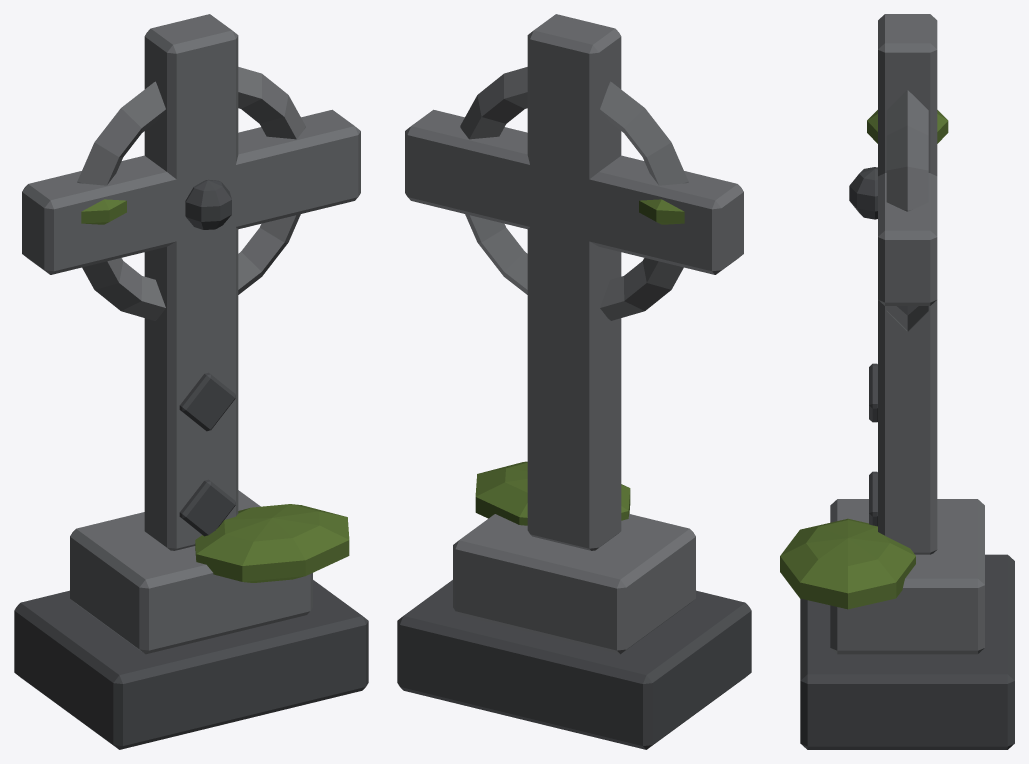
The model's file is celtic_cross.glb.
3 views of the same model, side by side, from view 1: azimuth 30°, elevation 25°; view 2: azimuth 150°, elevation 25°; view 3: azimuth 270°, elevation 25° (orthographic).
Visible parts, largest first — view 1: CelticCross; view 2: CelticCross; view 3: CelticCross.
Part boxes in pixels (left/top/right/bottom): CelticCross: left=14, top=14, right=368, bottom=749; CelticCross: left=397, top=14, right=751, bottom=749; CelticCross: left=780, top=14, right=1014, bottom=749.
Size of the model in its own units: 0.62 by 1.22 by 0.3941.
